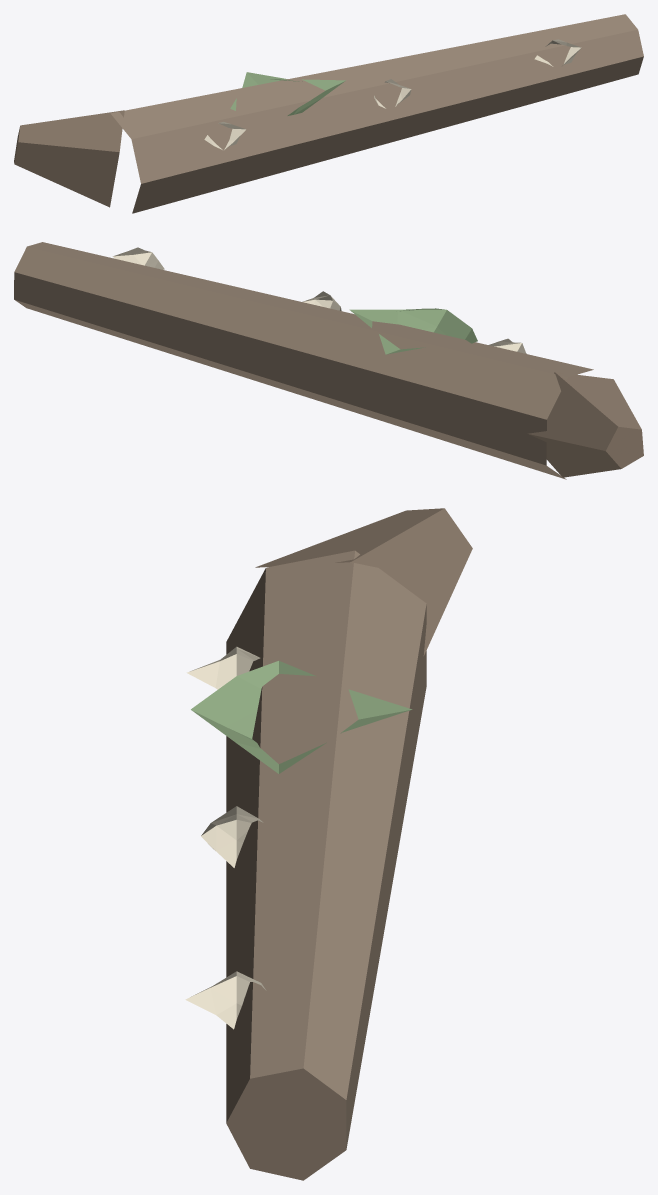
File: log_v34.glb
3 renders of one model, top to bottom at view 1: azimuth 30°, elevation 25°; view 2: azimuth 150°, elevation 25°; view 3: azimuth 270°, elevation 25°, orthographic. The views are drawn at different scales.
Parts seen in each view (by area): view 1: lod0; view 2: lod0; view 3: lod0.
Boxes of the visible parts, box(x1,y1,x2,y2) form: lod0: box(14, 14, 643, 213); lod0: box(14, 242, 643, 479); lod0: box(185, 508, 472, 1180).
Size of what is drawn, in the model's own units: 3.59 by 0.6113 by 0.764.
